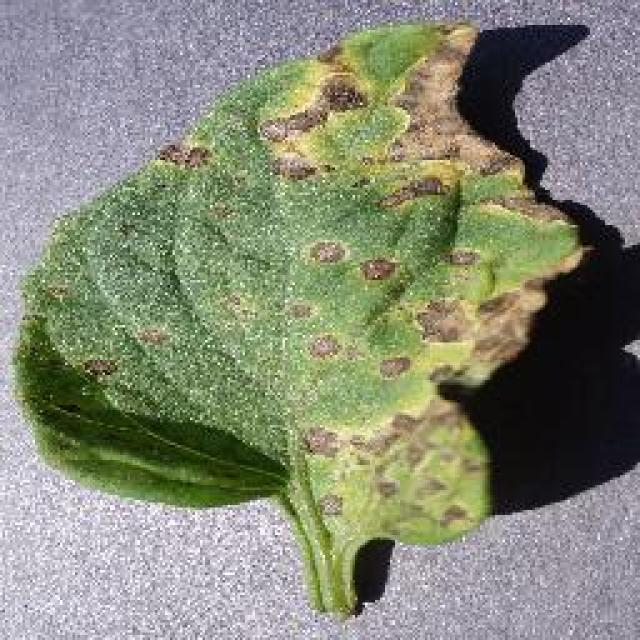Tomato___Septoria_leaf_spot: (15, 22, 582, 612)
